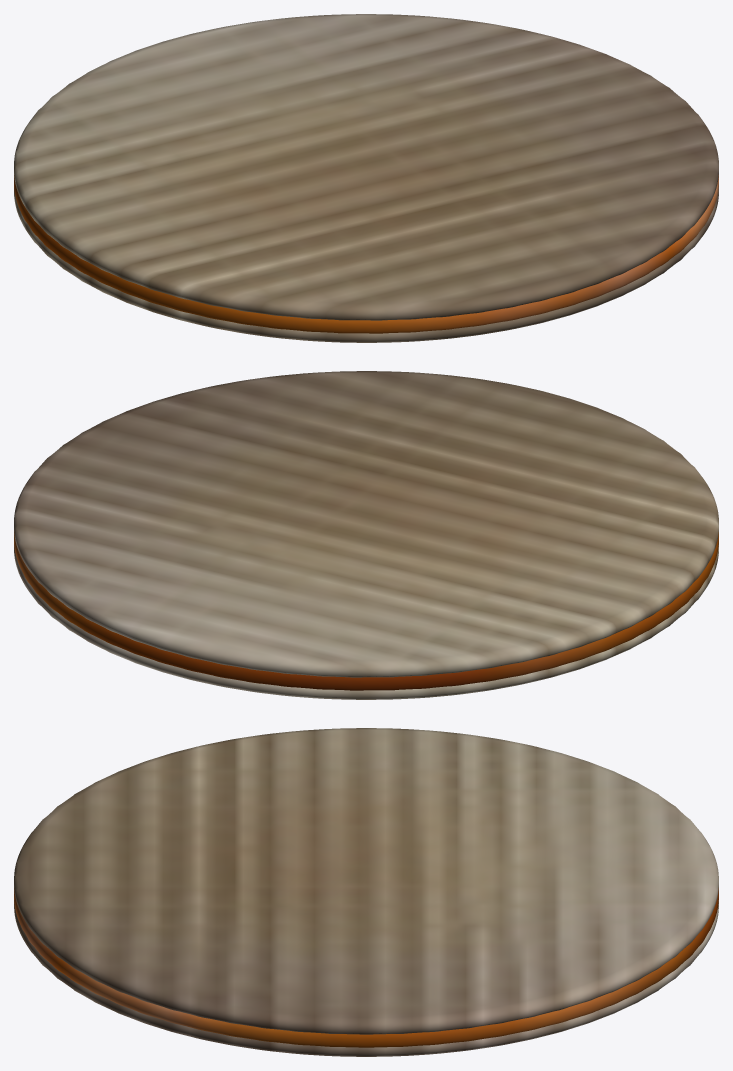
The model's file is AL_ObleasCajeta.fbx.
3 views of the same model, one above another, from view 1: azimuth 30°, elevation 25°; view 2: azimuth 150°, elevation 25°; view 3: azimuth 270°, elevation 25° (orthographic).
Parts seen in each view (by area): view 1: Cylinder.002; view 2: Cylinder.002; view 3: Cylinder.002.
Part boxes in pixels (x1=…): Cylinder.002: x1=14, y1=14, x2=718, y2=342; Cylinder.002: x1=14, y1=371, x2=718, y2=699; Cylinder.002: x1=14, y1=728, x2=718, y2=1056.
Size of the model in its own units: 0.1954 by 0.0113 by 0.1954.
